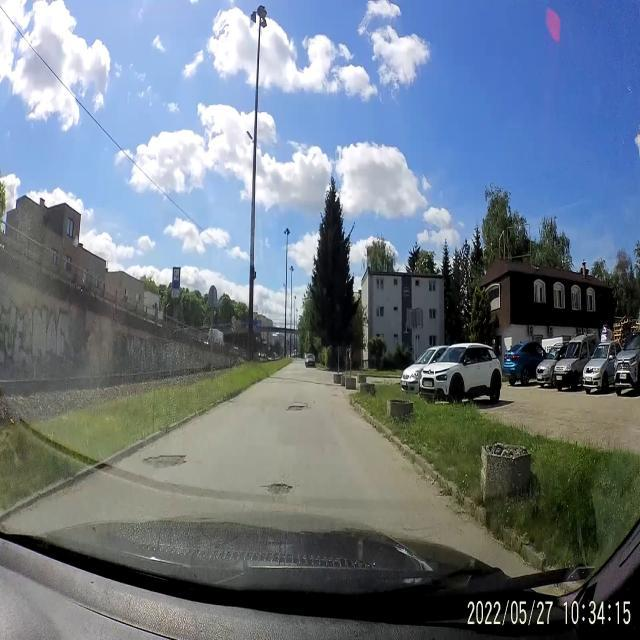Pothole: (142, 448, 188, 476), (264, 478, 294, 498), (284, 400, 307, 415)
